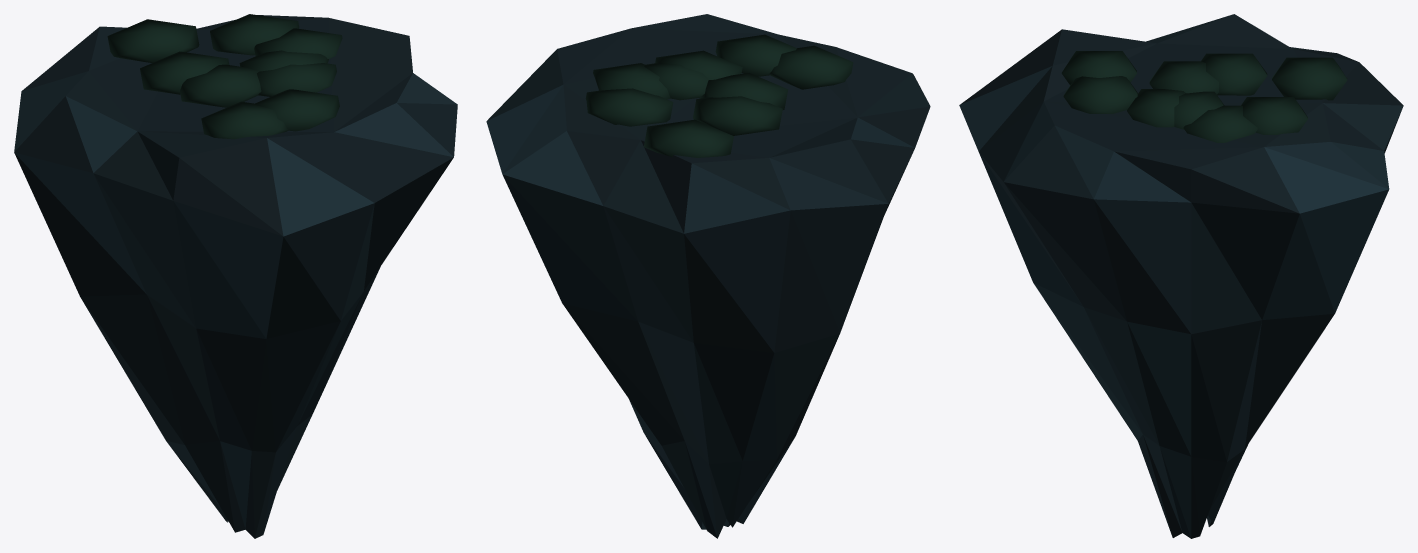
The model's file is SM_JA_FloatingCrag.fbx.
The picture shows the model from 3 angles, left to right: view 1: azimuth 30°, elevation 25°; view 2: azimuth 150°, elevation 25°; view 3: azimuth 270°, elevation 25°; orthographic projection. The views are drawn at different scales.
Parts seen in each view (by area): view 1: SM_JA_FloatingCrag; view 2: SM_JA_FloatingCrag; view 3: SM_JA_FloatingCrag.
Part boxes in pixels (x1,y1,x2,y2): SM_JA_FloatingCrag: (14, 14, 457, 538); SM_JA_FloatingCrag: (486, 14, 930, 538); SM_JA_FloatingCrag: (959, 14, 1403, 538).
Bounding box in the file's own units: 6.33 × 6.52 × 7.33.
